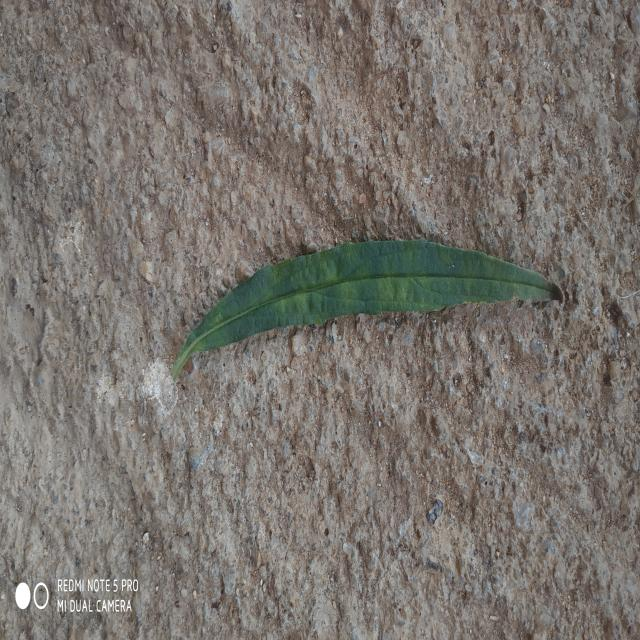defectedthambe: (276, 240, 450, 324)
thambe: (171, 240, 564, 380)
